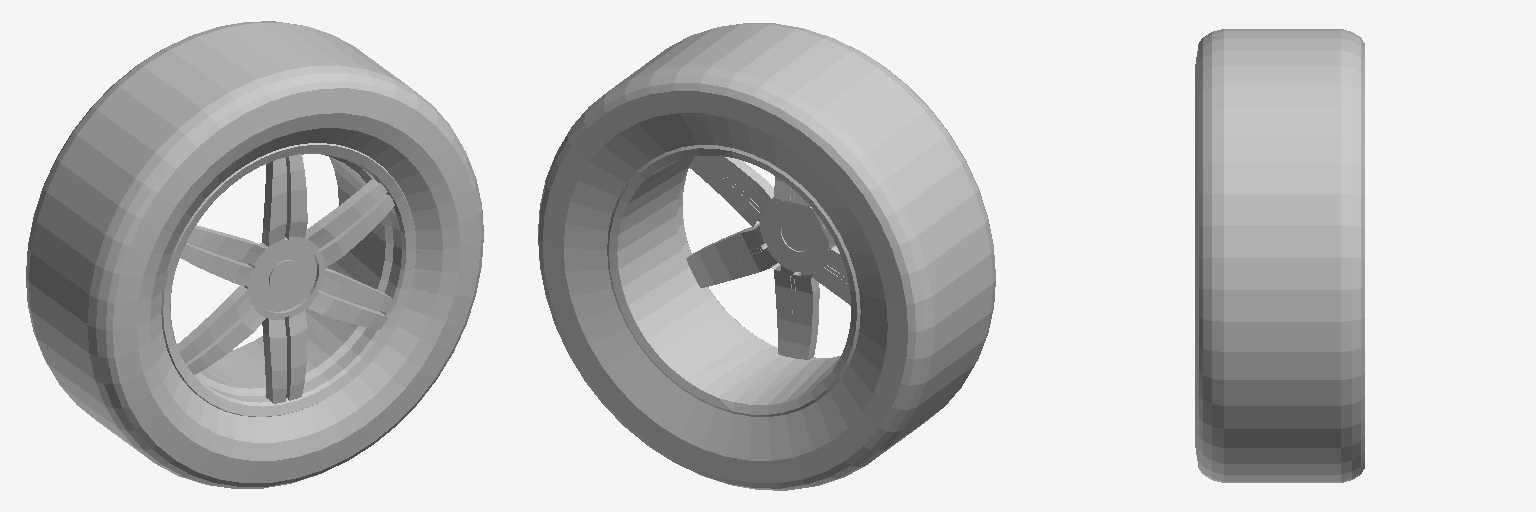
The picture shows the model from 3 angles: view 1: azimuth 30°, elevation 25°; view 2: azimuth 150°, elevation 25°; view 3: azimuth 270°, elevation 25°; orthographic projection.
Parts seen in each view (by area): view 1: Y173_901B_R_Y173_901B_R_2_DM, Y173_901B_R_Y173_901B_R_1_DaS, Y173_901B_R_3_D_Y173_901B_R; view 2: Y173_901B_R_Y173_901B_R_2_DM, Y173_901B_R_Y173_901B_R_1_DaS, Y173_901B_R_3_D_Y173_901B_R; view 3: Y173_901B_R_Y173_901B_R_2_DM.
Part boxes in pixels (left/top/right/bottom): Y173_901B_R_Y173_901B_R_2_DM: left=26, top=21, right=483, bottom=488; Y173_901B_R_Y173_901B_R_1_DaS: left=161, top=143, right=416, bottom=416; Y173_901B_R_3_D_Y173_901B_R: left=269, top=260, right=301, bottom=294; Y173_901B_R_Y173_901B_R_2_DM: left=538, top=23, right=995, bottom=490; Y173_901B_R_Y173_901B_R_1_DaS: left=607, top=145, right=860, bottom=416; Y173_901B_R_3_D_Y173_901B_R: left=781, top=218, right=812, bottom=251; Y173_901B_R_Y173_901B_R_2_DM: left=1195, top=29, right=1364, bottom=482.
Size of the model in its own units: 75.49 by 75.49 by 28.32.